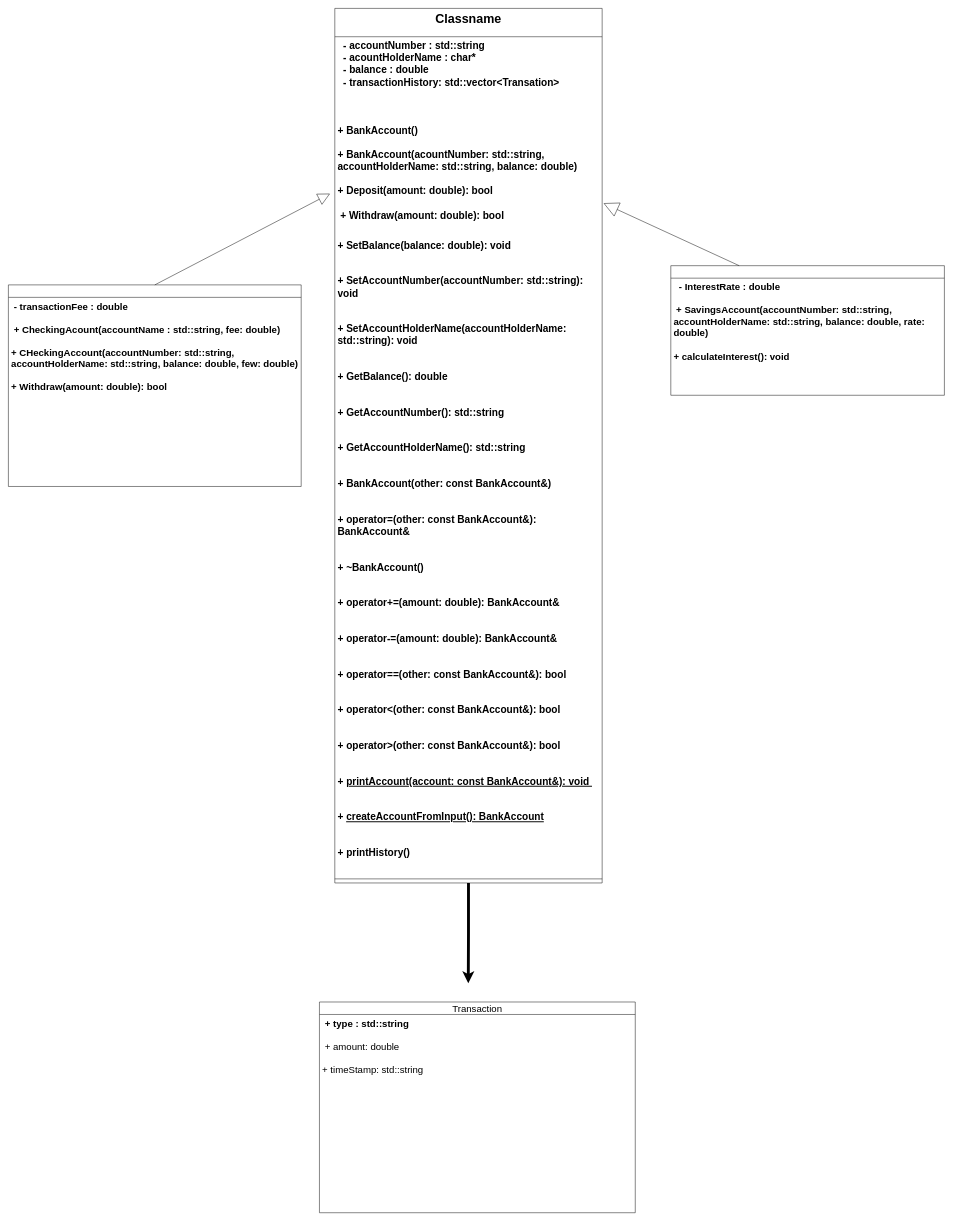
This 953x1223 diagram has some shape labels left out. The box of each missing label's shape, as (x1, y1, x2, y2) in pixels:
CheckingAccount : public BankAccount: (8, 284, 301, 486)
SavingsAccount : BankAccount: (670, 265, 944, 395)
